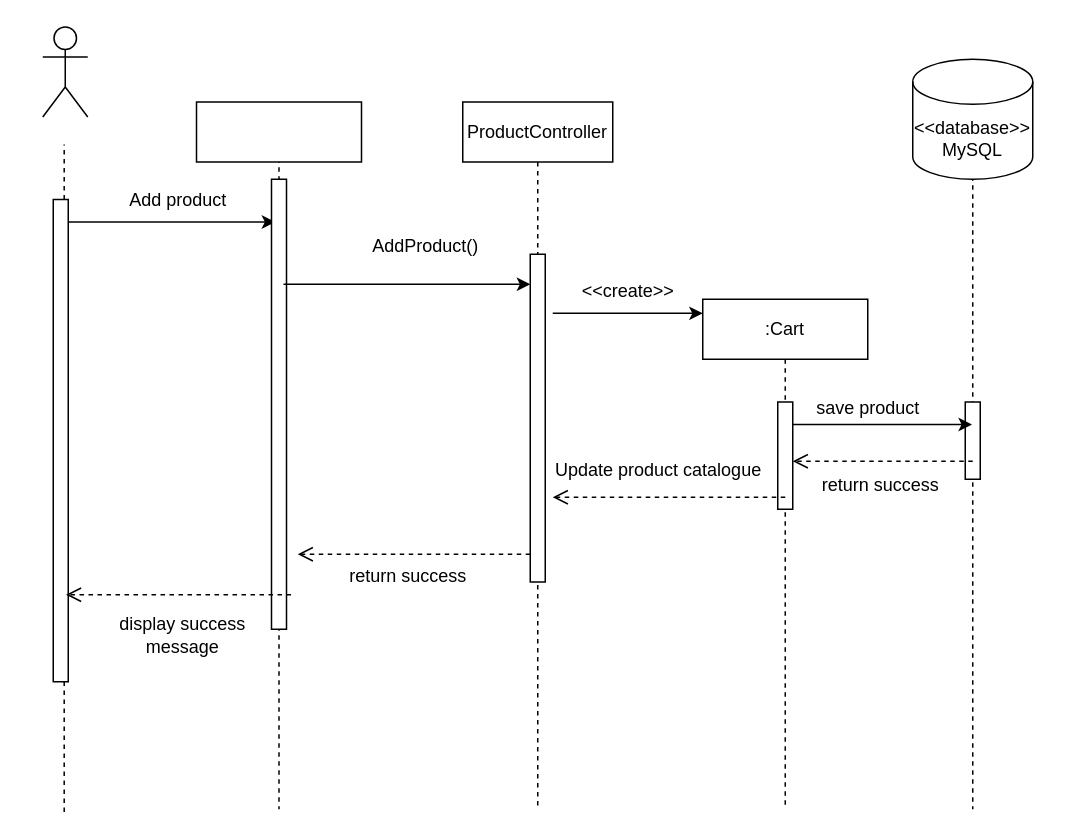
Image size: 1074x840. Some labels were removed from this diagram. The shapes that lost their labels are listed below. From the top down, each one's box as (x1, y1, x2, y2) in pixels, then its label:
(41, 26, 88, 117): Customer
(195, 100, 362, 162): UI
